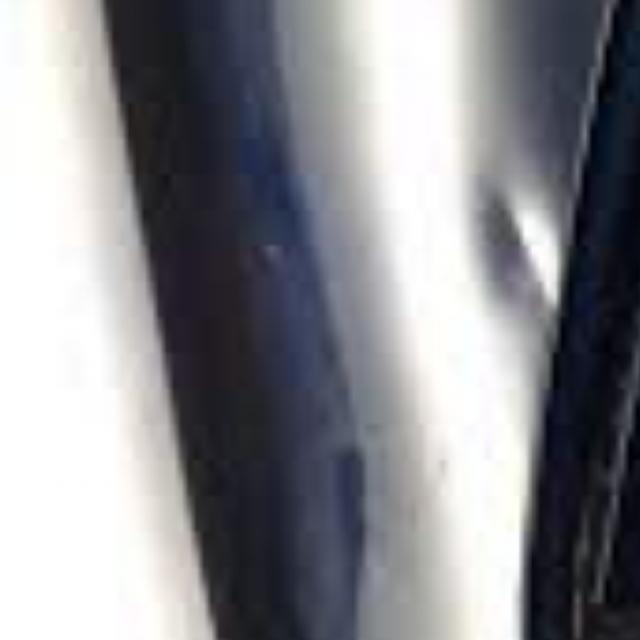dents: (455, 142, 612, 346)
